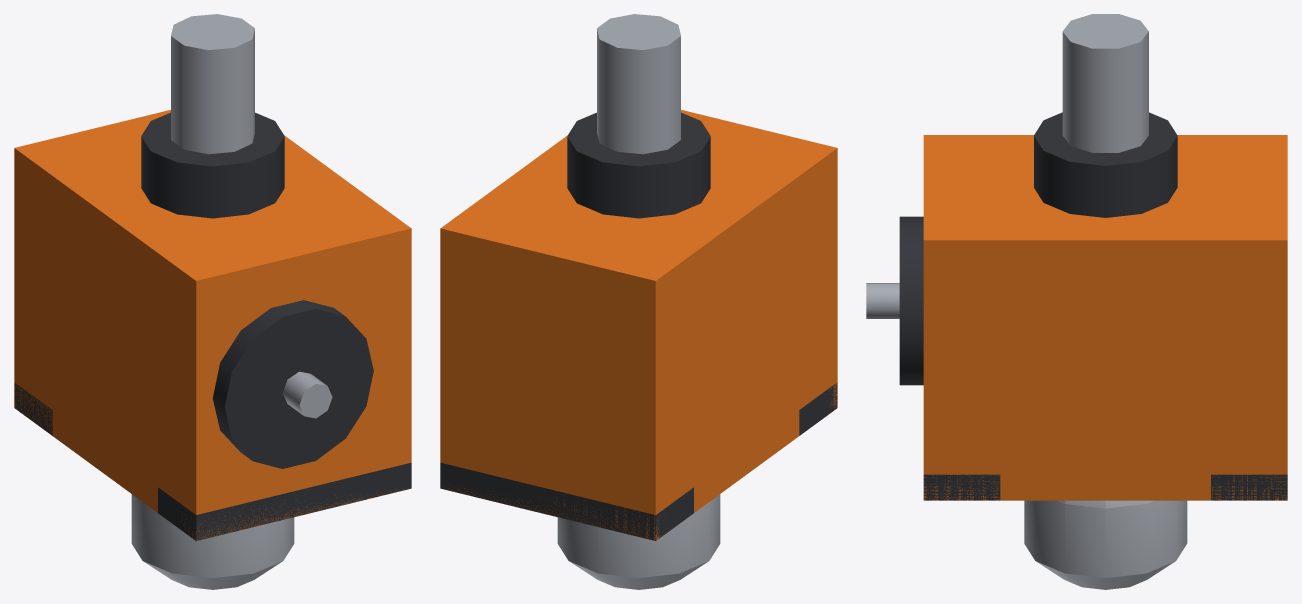
File: RigDrillHead.obj
The picture shows the model from 3 angles, left to right: view 1: azimuth 30°, elevation 25°; view 2: azimuth 150°, elevation 25°; view 3: azimuth 270°, elevation 25°; orthographic projection.
Parts seen in each view (by area): view 1: RigDrillHead; view 2: RigDrillHead; view 3: RigDrillHead.
Part boxes in pixels (bbox=[...]): RigDrillHead: bbox=[14, 14, 411, 589]; RigDrillHead: bbox=[440, 14, 837, 589]; RigDrillHead: bbox=[866, 14, 1287, 589].
Bounding box in the file's own units: 0.26 × 0.62 × 0.44.
